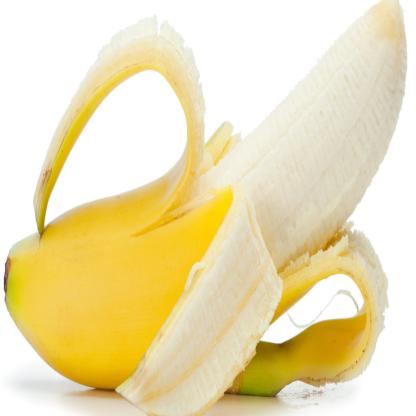banana: (21, 1, 416, 385)
